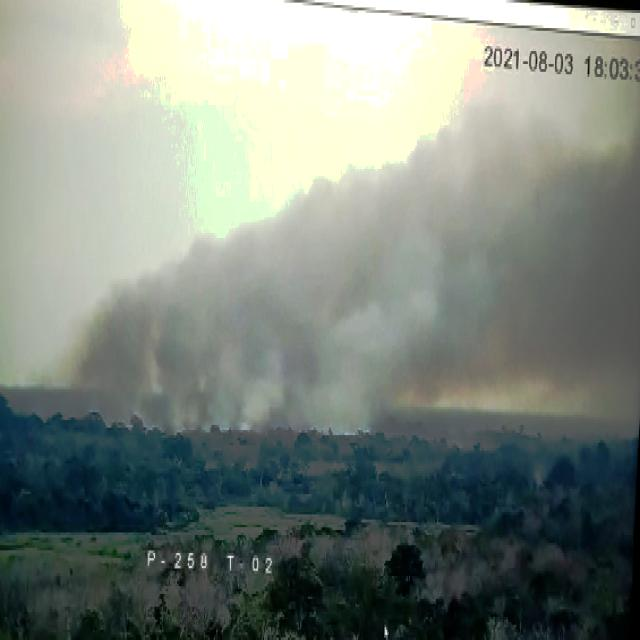asap: (27, 88, 640, 434)
